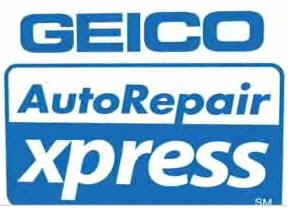geico: (20, 12, 266, 52)
